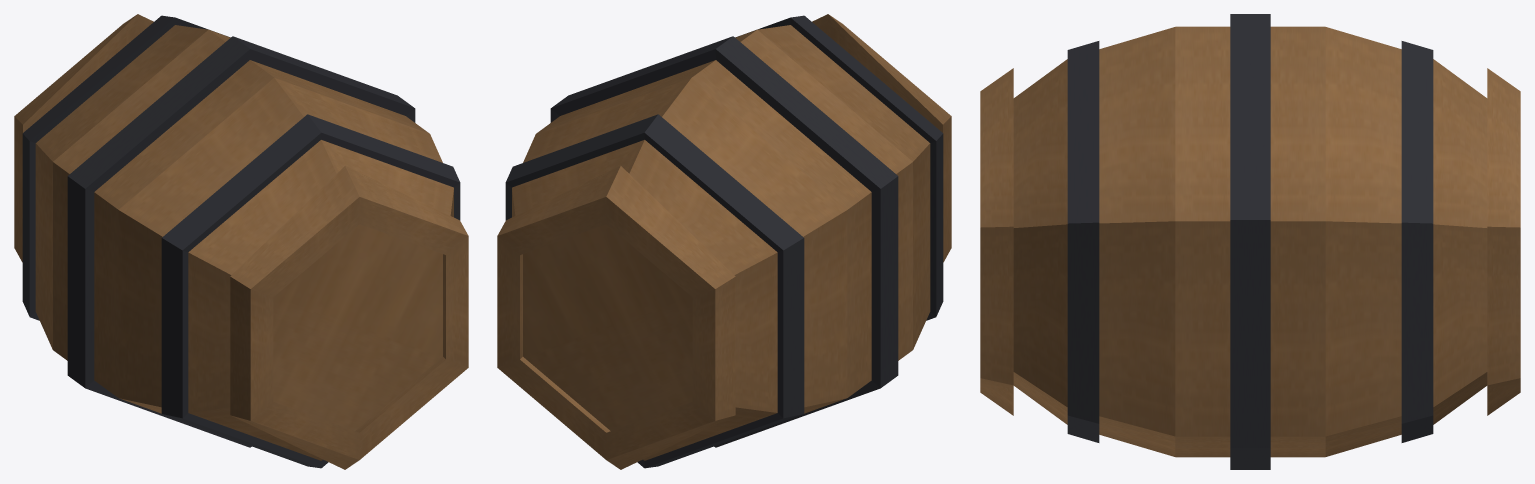
File: drum.FBX
3 renders of one model, left to right at view 1: azimuth 30°, elevation 25°; view 2: azimuth 150°, elevation 25°; view 3: azimuth 270°, elevation 25°, orthographic. The views are drawn at different scales.
Parts seen in each view (by area): view 1: Cylinder.036; view 2: Cylinder.036; view 3: Cylinder.036.
Boxes of the visible parts, x1,y1,x2,y2 form: Cylinder.036: (14,14,468,469); Cylinder.036: (497,14,951,469); Cylinder.036: (980,14,1520,469).
Size of the model in its own units: 106 by 122 by 131.
